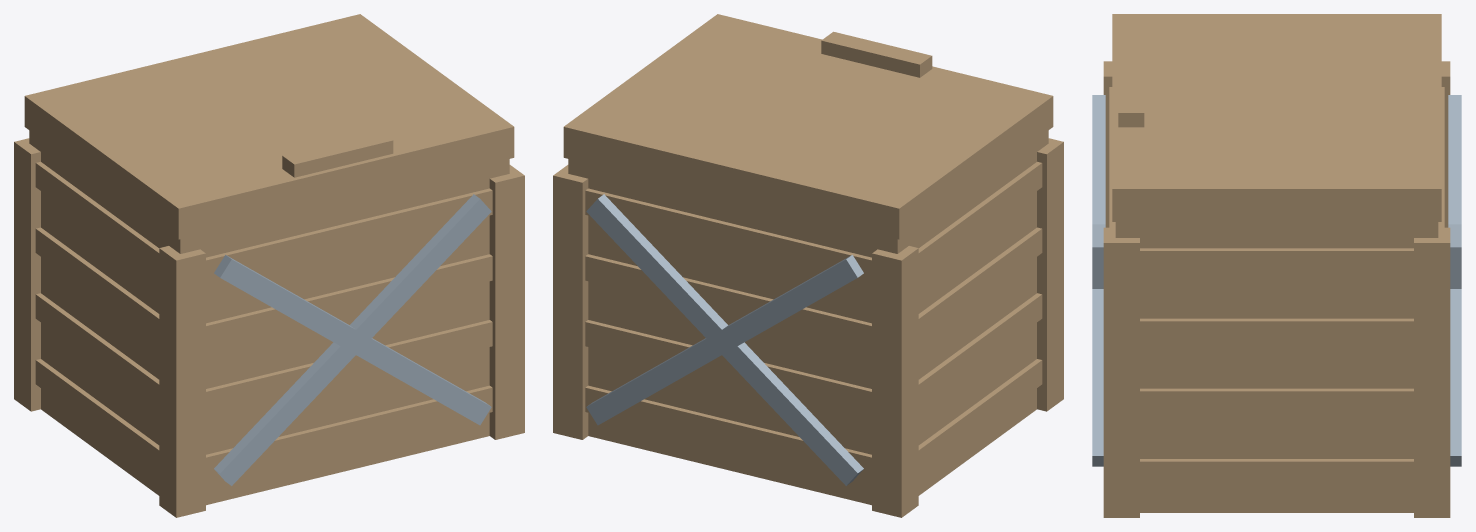
The model's file is wipe-day-survival-island-wooden-supply-crate-26adcfeb__27447.glb.
3 views of the same model, side by side, from view 1: azimuth 30°, elevation 25°; view 2: azimuth 150°, elevation 25°; view 3: azimuth 270°, elevation 25° (orthographic). The views are drawn at different scales.
Visible parts, largest first — view 1: wooden-supply-crate, lid; view 2: wooden-supply-crate, lid; view 3: wooden-supply-crate, lid.
Boxes of the visible parts, bbox=[...] form: wooden-supply-crate: bbox=[14, 130, 524, 517]; lid: bbox=[24, 14, 514, 239]; wooden-supply-crate: bbox=[553, 130, 1063, 517]; lid: bbox=[563, 14, 1053, 239]; wooden-supply-crate: bbox=[1092, 61, 1461, 517]; lid: bbox=[1112, 14, 1441, 221].
Size of the model in its own units: 0.826 by 0.72 by 0.71.
